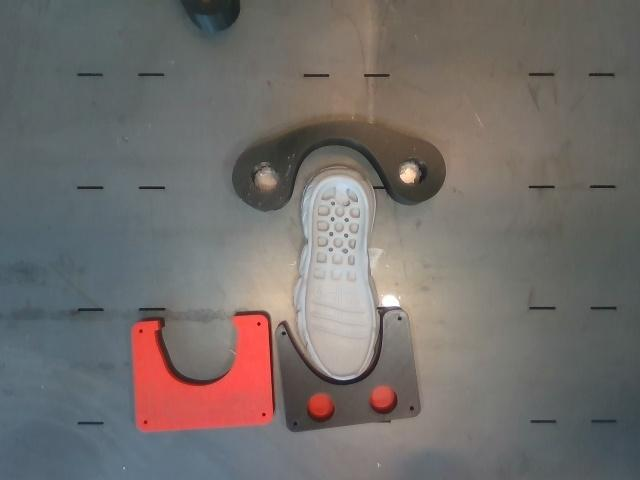shoes: (304, 175, 375, 378)
